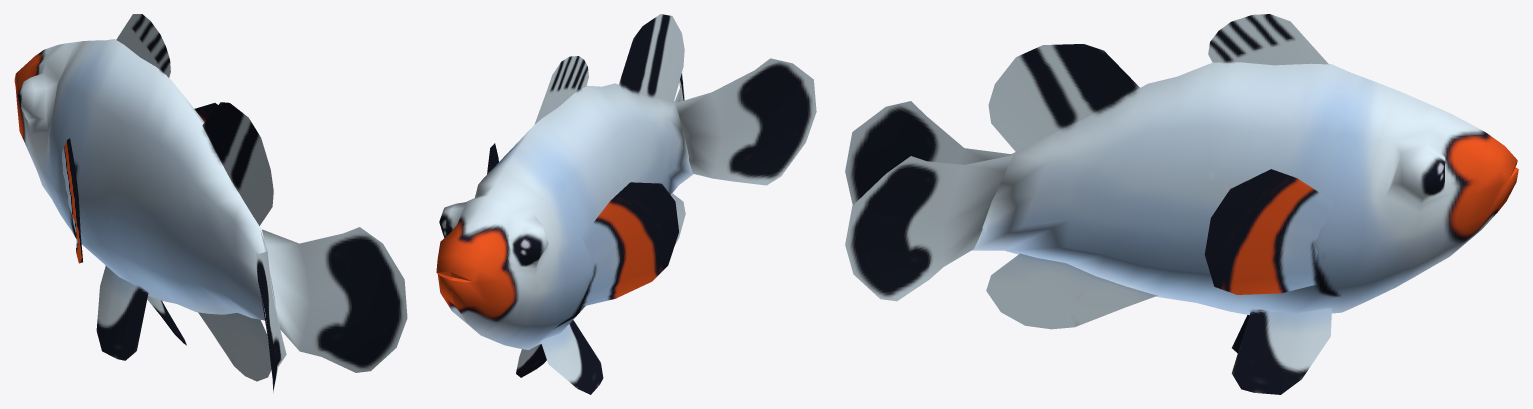
File: ClownFIshWhite.fbx
3 renders of one model, left to right at view 1: azimuth 30°, elevation 25°; view 2: azimuth 150°, elevation 25°; view 3: azimuth 270°, elevation 25°, orthographic. The views are drawn at different scales.
Parts seen in each view (by area): view 1: ClownFIshWhite_LOD00; view 2: ClownFIshWhite_LOD00; view 3: ClownFIshWhite_LOD00.
Part boxes in pixels (bbox=[...]): ClownFIshWhite_LOD00: bbox=[14, 14, 407, 392]; ClownFIshWhite_LOD00: bbox=[436, 14, 816, 394]; ClownFIshWhite_LOD00: bbox=[845, 14, 1518, 394].
Size of what is drawn, in the model's own units: 30.21 by 51.92 by 87.7.
